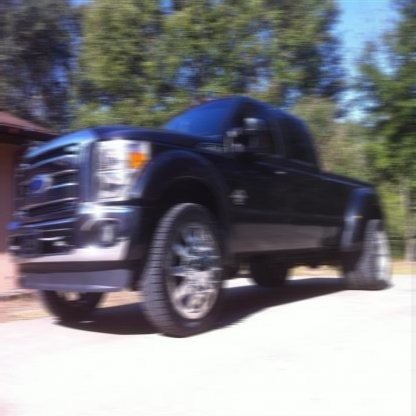Vehicle: (9, 96, 390, 336)
